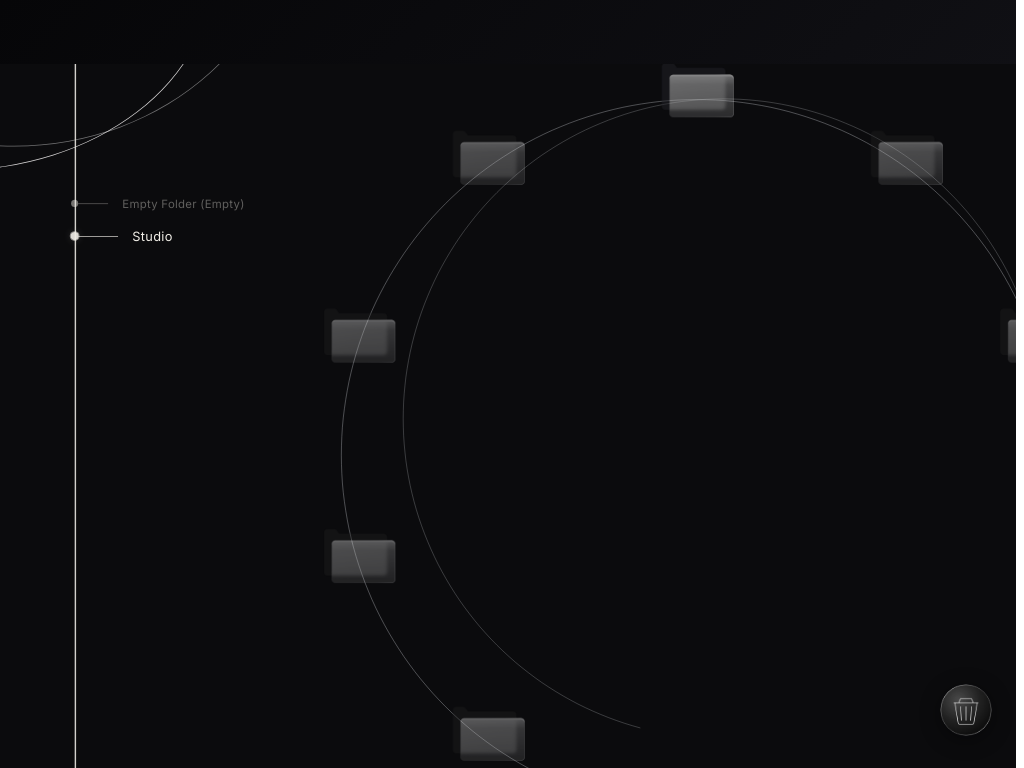
it: MoodboardOrbit › delete folder flow › desktop 在刪除模式下點擊資料夾圖示本身，效果等同點擊刪除 icon：開啟確認彈窗且不會進入資料夾
Click the button with test id "moodboard-folder-delete-toggle".
click(966, 710)  # box [940,684,992,736]
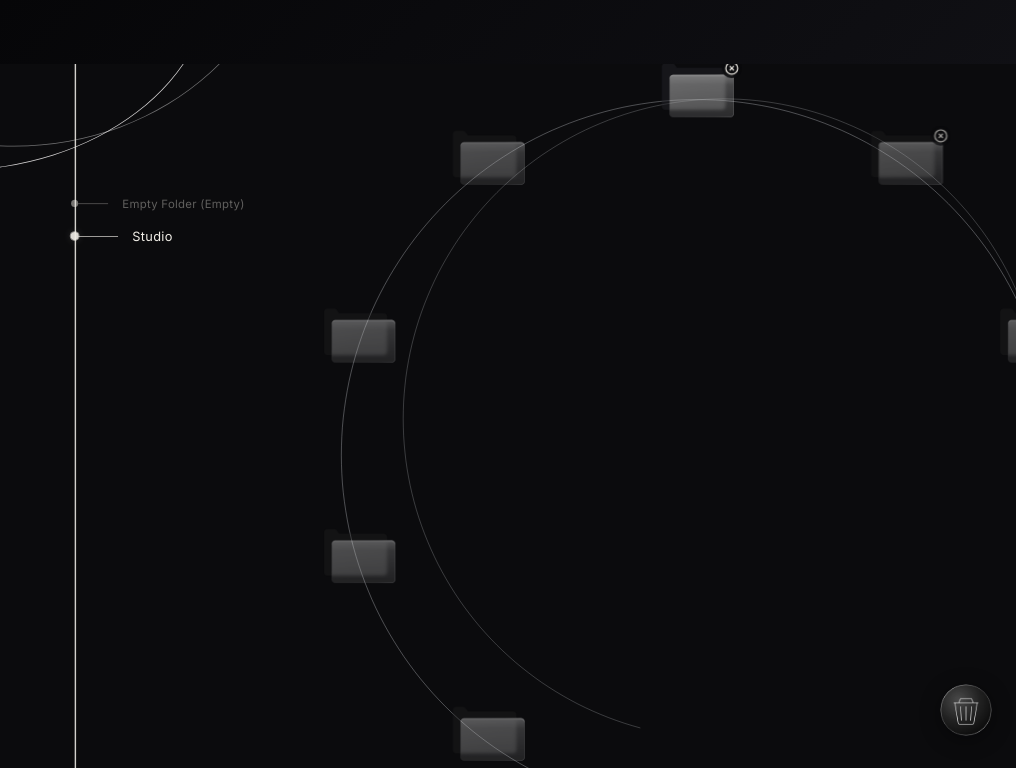
Click the element with test id "moodboard-folder-0".
click(697, 89)  # box [654,60,740,117]
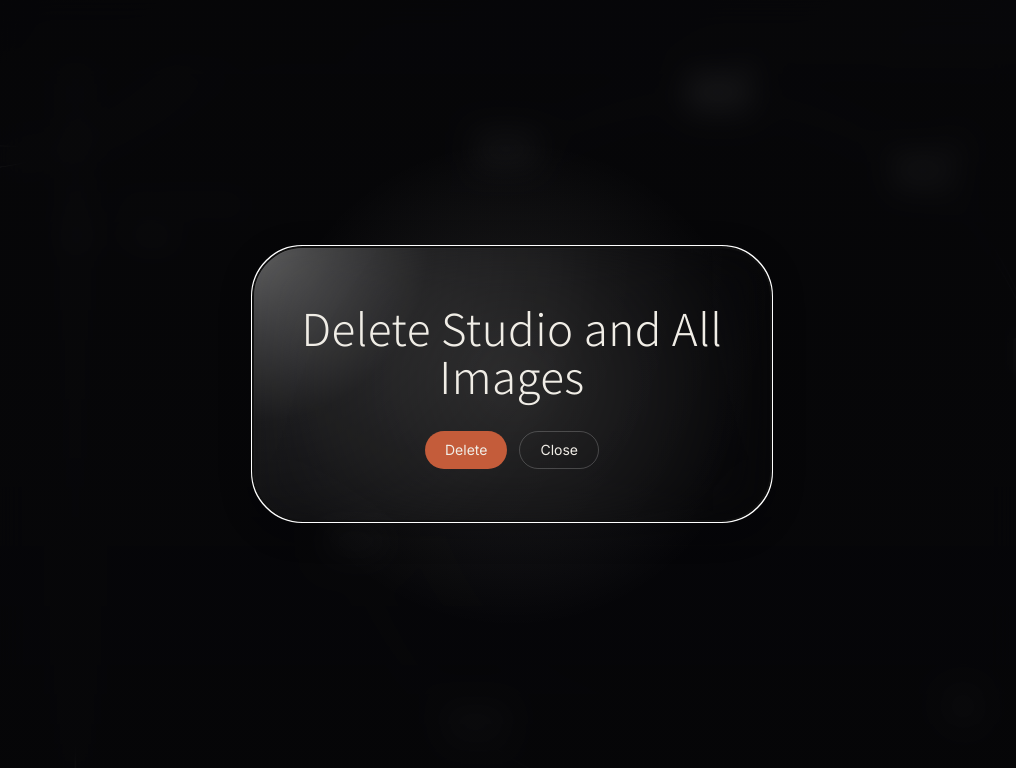
Expected: the button with test id "delete-folder-confirm" is shown, [425,431,507,469]
